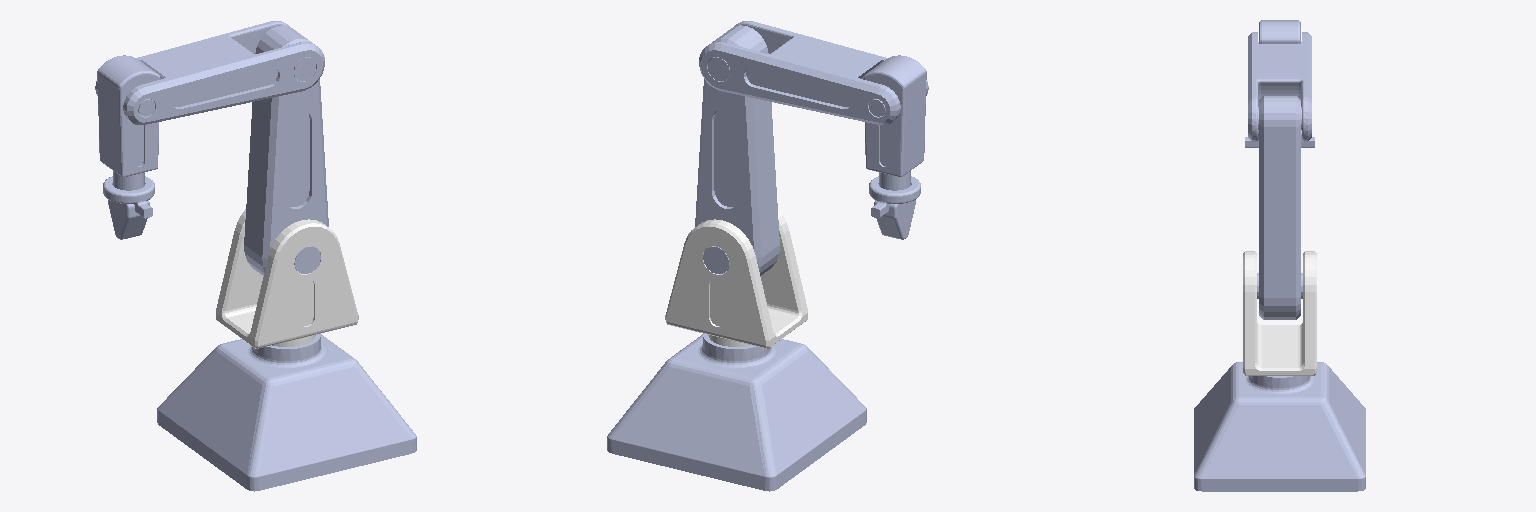
The robot description file, URDF, robot "robot_arm_urdf":
<?xml version="1.0" encoding="utf-8" ?>
<robot name="robot_arm_urdf">
    <link name="world" />
    <joint name="base_joint" type="fixed">
        <parent link="world" />
        <child link="base_link" />
        <origin rpy="0 0 0" xyz="0.0 0.0 0.17" />
    </joint>
    <link name="base_link">
        <inertial>
            <origin xyz="0.095642 0.17665 0.3015" rpy="0 0 0" />
            <mass value="17.147" />
            <inertia ixx="0.192" ixy="1.5581E-17" ixz="4.9423E-10" iyy="0.29544" iyz="-6.673E-18" izz="0.192" />
        </inertial>
        <visual>
            <origin xyz="0 0 0" rpy="0 0 0" />
            <geometry>
                <mesh filename="package://robot_arm_urdf/meshes/base_link.STL" />
            </geometry>
            <material name="">
                <color rgba="0.79216 0.81961 0.93333 1" />
            </material>
        </visual>
        <collision>
            <origin xyz="0 0 0" rpy="0 0 0" />
            <geometry>
                <mesh filename="package://robot_arm_urdf/meshes/base_link.STL" />
            </geometry>
        </collision>
    </link>
    <link name="link_1">
        <inertial>
            <origin xyz="-2.5702E-14 0.11047 -7.8988E-11" rpy="0 0 0" />
            <mass value="3.0905" />
            <inertia ixx="0.026302" ixy="-2.5281E-15" ixz="-1.4177E-12" iyy="0.019632" iyz="-7.4535E-12" izz="0.025388" />
        </inertial>
        <visual>
            <origin xyz="0 0 0" rpy="0 0 0" />
            <geometry>
                <mesh filename="package://robot_arm_urdf/meshes/link_1.STL" />
            </geometry>
            <material name="">
                <color rgba="1 1 1 1" />
            </material>
        </visual>
        <collision>
            <origin xyz="0 0 0" rpy="0 0 0" />
            <geometry>
                <mesh filename="package://robot_arm_urdf/meshes/link_1.STL" />
            </geometry>
        </collision>
    </link>
    <joint name="joint_1" type="revolute">
        <origin xyz="0.095642 -0.3015 0.30277" rpy="1.5708 0 0" />
        <parent link="base_link" />
        <child link="link_1" />
        <axis xyz="0 1 0" />
        <limit lower="0" upper="6.284" effort="300" velocity="3" />
    </joint>
    <link name="link_2">
        <inertial>
            <origin xyz="0 0.16752 1.1102E-16" rpy="0 0 0" />
            <mass value="5.5867" />
            <inertia ixx="0.12632" ixy="1.6467E-18" ixz="2.2412E-19" iyy="0.011401" iyz="3.5887E-18" izz="0.12911" />
        </inertial>
        <visual>
            <origin xyz="0 0 0" rpy="0 0 0" />
            <geometry>
                <mesh filename="package://robot_arm_urdf/meshes/link_2.STL" />
            </geometry>
            <material name="">
                <color rgba="0.79216 0.81961 0.93333 1" />
            </material>
        </visual>
        <collision>
            <origin xyz="0 0 0" rpy="0 0 0" />
            <geometry>
                <mesh filename="package://robot_arm_urdf/meshes/link_2.STL" />
            </geometry>
        </collision>
    </link>
    <joint name="joint_2" type="revolute">
        <origin xyz="0 0.205 0" rpy="0 0 0" />
        <parent link="link_1" />
        <child link="link_2" />
        <axis xyz="0 0 1" />
        <limit lower="-1.57" upper="1.57" effort="200" velocity="3" />
    </joint>
    <link name="link_3">
        <inertial>
            <origin xyz="-0.17893 0 -5.5511E-17" rpy="0 0 0" />
            <mass value="2.8262" />
            <inertia ixx="0.0074041" ixy="-7.9897E-18" ixz="4.0357E-17" iyy="0.028552" iyz="-3.4736E-10" izz="0.025128" />
        </inertial>
        <visual>
            <origin xyz="0 0 0" rpy="0 0 0" />
            <geometry>
                <mesh filename="package://robot_arm_urdf/meshes/link_3.STL" />
            </geometry>
            <material name="">
                <color rgba="0.79216 0.81961 0.93333 1" />
            </material>
        </visual>
        <collision>
            <origin xyz="0 0 0" rpy="0 0 0" />
            <geometry>
                <mesh filename="package://robot_arm_urdf/meshes/link_3.STL" />
            </geometry>
        </collision>
    </link>
    <joint name="joint_3" type="revolute">
        <origin xyz="0 0.4 0" rpy="0 0 0" />
        <parent link="link_2" />
        <child link="link_3" />
        <axis xyz="0 0 1" />
        <limit lower="-3.142" upper="0" effort="200" velocity="3" />
    </joint>
    <link name="link_4">
        <inertial>
            <origin xyz="-0.051672 -5.5511E-17 1.1102E-16" rpy="0 0 0" />
            <mass value="1.8097" />
            <inertia ixx="0.0023112" ixy="-5.8036E-18" ixz="-3.6586E-19" iyy="0.0096102" iyz="-5.4118E-19" izz="0.0093908" />
        </inertial>
        <visual>
            <origin xyz="0 0 0" rpy="0 0 0" />
            <geometry>
                <mesh filename="package://robot_arm_urdf/meshes/link_4.STL" />
            </geometry>
            <material name="">
                <color rgba="0.79216 0.81961 0.93333 1" />
            </material>
        </visual>
        <collision>
            <origin xyz="0 0 0" rpy="0 0 0" />
            <geometry>
                <mesh filename="package://robot_arm_urdf/meshes/link_4.STL" />
            </geometry>
        </collision>
    </link>
    <joint name="joint_4" type="revolute">
        <origin xyz="-0.35 0 0" rpy="0 0 1.5708" />
        <parent link="link_3" />
        <child link="link_4" />
        <axis xyz="0 0 1" />
        <limit lower="-3.142" upper="0" effort="200" velocity="3" />
    </joint>
    <link name="link_5">
        <inertial>
            <origin xyz="-0.018544 0 0" rpy="0 0 0" />
            <mass value="0.19053" />
            <inertia ixx="0.00030197" ixy="2.3502E-20" ixz="-3.9613E-20" iyy="0.00022817" iyz="-1.9664E-11" izz="0.00011843" />
        </inertial>
        <visual>
            <origin xyz="0 0 0" rpy="0 0 0" />
            <geometry>
                <mesh filename="package://robot_arm_urdf/meshes/link_5.STL" />
            </geometry>
            <material name="">
                <color rgba="0.79216 0.81961 0.93333 1" />
            </material>
        </visual>
        <collision>
            <origin xyz="0 0 0" rpy="0 0 0" />
            <geometry>
                <mesh filename="package://robot_arm_urdf/meshes/link_5.STL" />
            </geometry>
        </collision>
    </link>
    <joint name="joint_5" type="revolute">
        <origin xyz="-0.188 0 0" rpy="0 0 0" />
        <parent link="link_4" />
        <child link="link_5" />
        <axis xyz="1 0 0" />
        <limit lower="0" upper="3.142" effort="200" velocity="3" />
    </joint>
    <link name="link_6">
        <inertial>
            <origin xyz="-0.60237 0.4 -0.016013" rpy="0 0 0" />
            <mass value="0.11653" />
            <inertia ixx="3.9246E-05" ixy="1.0455E-19" ixz="1.0258E-05" iyy="7.1189E-05" iyz="6.1565E-21" izz="8.4875E-05" />
        </inertial>
        <visual>
            <origin xyz="0 0 0" rpy="0 0 0" />
            <geometry>
                <mesh filename="package://robot_arm_urdf/meshes/link_6.STL" />
            </geometry>
            <material name="">
                <color rgba="0.79216 0.81961 0.93333 1" />
            </material>
        </visual>
        <collision>
            <origin xyz="0 0 0" rpy="0 0 0" />
            <geometry>
                <mesh filename="package://robot_arm_urdf/meshes/link_6.STL" />
            </geometry>
        </collision>
    </link>
    <joint name="joint_6" type="prismatic">
        <origin xyz="0.54 -0.4 0" rpy="0 0 0" />
        <parent link="link_5" />
        <child link="link_6" />
        <axis xyz="0 0 -1" />
        <limit lower="0" upper="0.03" effort="100" velocity="3" />
    </joint>
    <link name="link_7">
        <inertial>
            <origin xyz="-0.60237 0.4 -0.016013" rpy="0 0 0" />
            <mass value="0.11653" />
            <inertia ixx="3.9246E-05" ixy="-1.6817E-19" ixz="1.0258E-05" iyy="7.1189E-05" iyz="-6.4938E-20" izz="8.4875E-05" />
        </inertial>
        <visual>
            <origin xyz="0 0 0" rpy="0 0 0" />
            <geometry>
                <mesh filename="package://robot_arm_urdf/meshes/link_7.STL" />
            </geometry>
            <material name="">
                <color rgba="0.79216 0.81961 0.93333 1" />
            </material>
        </visual>
        <collision>
            <origin xyz="0 0 0" rpy="0 0 0" />
            <geometry>
                <mesh filename="package://robot_arm_urdf/meshes/link_7.STL" />
            </geometry>
        </collision>
    </link>
    <joint name="joint_7" type="prismatic">
        <origin xyz="0.54 0.4 0" rpy="3.1416 0 0" />
        <parent link="link_5" />
        <child link="link_7" />
        <axis xyz="0 0 1" />
        <limit lower="-0.03" upper="0" effort="100" velocity="3" />
    </joint>
    <transmission name="link_1_trans">
        <type>transmission_interface/SimpleTransmission</type>
        <joint name="joint_1">
            <hardwareInterface>hardware_interface/PositionJointInterface</hardwareInterface>
        </joint>
        <actuator name="link_1_motor">
            <hardwareInterface>hardware_interface/PositionJointInterface</hardwareInterface>
            <mechanicalReduction>1</mechanicalReduction>
        </actuator>
    </transmission>
    <transmission name="link_2_trans">
        <type>transmission_interface/SimpleTransmission</type>
        <joint name="joint_2">
            <hardwareInterface>hardware_interface/PositionJointInterface</hardwareInterface>
        </joint>
        <actuator name="link_2_motor">
            <hardwareInterface>hardware_interface/PositionJointInterface</hardwareInterface>
            <mechanicalReduction>1</mechanicalReduction>
        </actuator>
    </transmission>
    <transmission name="link_3_trans">
        <type>transmission_interface/SimpleTransmission</type>
        <joint name="joint_3">
            <hardwareInterface>hardware_interface/PositionJointInterface</hardwareInterface>
        </joint>
        <actuator name="link_3_motor">
            <hardwareInterface>hardware_interface/PositionJointInterface</hardwareInterface>
            <mechanicalReduction>1</mechanicalReduction>
        </actuator>
    </transmission>
    <transmission name="link_4_trans">
        <type>transmission_interface/SimpleTransmission</type>
        <joint name="joint_4">
            <hardwareInterface>hardware_interface/PositionJointInterface</hardwareInterface>
        </joint>
        <actuator name="link_4_motor">
            <hardwareInterface>hardware_interface/PositionJointInterface</hardwareInterface>
            <mechanicalReduction>1</mechanicalReduction>
        </actuator>
    </transmission>
    <transmission name="link_5_trans">
        <type>transmission_interface/SimpleTransmission</type>
        <joint name="joint_5">
            <hardwareInterface>hardware_interface/PositionJointInterface</hardwareInterface>
        </joint>
        <actuator name="link_5_motor">
            <hardwareInterface>hardware_interface/PositionJointInterface</hardwareInterface>
            <mechanicalReduction>1</mechanicalReduction>
        </actuator>
    </transmission>
    <transmission name="link_6_trans">
        <type>transmission_interface/SimpleTransmission</type>
        <joint name="joint_6">
            <hardwareInterface>hardware_interface/PositionJointInterface</hardwareInterface>
        </joint>
        <actuator name="link_6_motor">
            <hardwareInterface>hardware_interface/PositionJointInterface</hardwareInterface>
            <mechanicalReduction>1</mechanicalReduction>
        </actuator>
    </transmission>
    <transmission name="link_7_trans">
        <type>transmission_interface/SimpleTransmission</type>
        <joint name="joint_7">
            <hardwareInterface>hardware_interface/PositionJointInterface</hardwareInterface>
        </joint>
        <actuator name="link_7_motor">
            <hardwareInterface>hardware_interface/PositionJointInterface</hardwareInterface>
            <mechanicalReduction>1</mechanicalReduction>
        </actuator>
    </transmission>
    <gazebo>
        <plugin name="control" filename="libgazebo_ros_control.so">
            <robotNamespace>/</robotNamespace>
        </plugin>
        <plugin name="gazebo_ros_control" filename="libgazebo_ros_control.so">
            <robotNamespace>/</robotNamespace>
        </plugin>
    </gazebo>
    <gazebo reference="link_1">
        <selfCollide>true</selfCollide>
    </gazebo>
    <gazebo reference="link_2">
        <selfCollide>true</selfCollide>
    </gazebo>
    <gazebo reference="link_3">
        <selfCollide>true</selfCollide>
    </gazebo>
    <gazebo reference="link_4">
        <selfCollide>true</selfCollide>
    </gazebo>
    <gazebo reference="link_5">
        <selfCollide>true</selfCollide>
    </gazebo>
    <gazebo reference="link_6">
        <selfCollide>true</selfCollide>
    </gazebo>
    <gazebo reference="link_7">
        <selfCollide>true</selfCollide>
    </gazebo>
</robot>

--- What the picture shows (computed from the rendered views, not written in the file) ---
Views: 3 orthographic renders of the robot side by side, from view 1: azimuth 30°, elevation 25°; view 2: azimuth 150°, elevation 25°; view 3: azimuth 270°, elevation 25°.
Model robot_arm_urdf with 9 links and 8 joints (5 revolute, 2 prismatic, 1 fixed), rooted at world, posed all joints at 0.
Visible links, largest first — view 1: base_link, link_2, link_1, link_3, link_4, link_5, link_7; view 2: base_link, link_2, link_1, link_3, link_4, link_5, link_6; view 3: base_link, link_2, link_1, link_3, link_4.
Link boxes in pixels (x1,y1,x2,y2): base_link: (157, 334, 416, 491); link_2: (244, 25, 328, 275); link_1: (216, 209, 358, 348); link_3: (95, 21, 324, 124); link_4: (97, 55, 160, 190); link_5: (103, 176, 154, 218); link_7: (118, 200, 149, 239); base_link: (607, 334, 866, 491); link_2: (695, 25, 779, 275); link_1: (665, 209, 807, 348); link_3: (699, 21, 928, 124); link_4: (863, 55, 926, 190); link_5: (869, 176, 920, 218); link_6: (874, 200, 905, 239); base_link: (1194, 362, 1365, 491); link_2: (1257, 96, 1302, 319); link_1: (1243, 251, 1316, 375); link_3: (1248, 32, 1311, 141); link_4: (1258, 20, 1301, 43).
Size in the robot's own frame: 0.5866 by 0.3732 by 0.87 metres.
8 mesh visuals loaded from 8 distinct referenced files (8 binary STL).